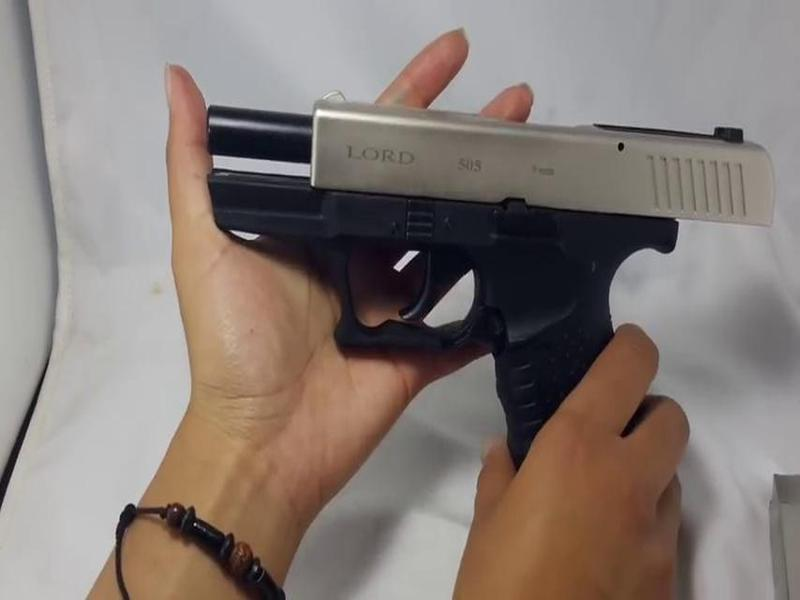Pistola: (171, 81, 767, 521)
